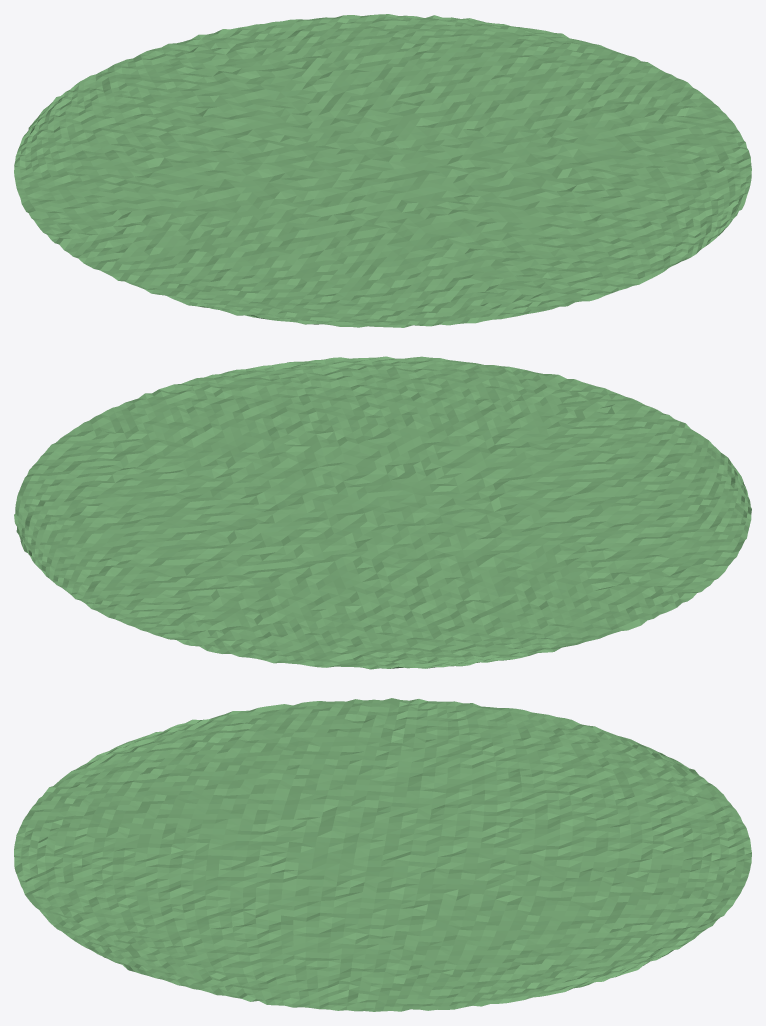
Rendered from world_1_terrain.dae.
3 renders of one model, top to bottom at view 1: azimuth 30°, elevation 25°; view 2: azimuth 150°, elevation 25°; view 3: azimuth 270°, elevation 25°, orthographic.
Parts seen in each view (by area): view 1: Circle_001; view 2: Circle_001; view 3: Circle_001.
Boxes of the visible parts, bbox=[...] form: Circle_001: bbox=[14, 14, 751, 327]; Circle_001: bbox=[14, 356, 751, 669]; Circle_001: bbox=[14, 698, 751, 1011].
Size of the model in its own units: 128 by 128 by 0.7477.
